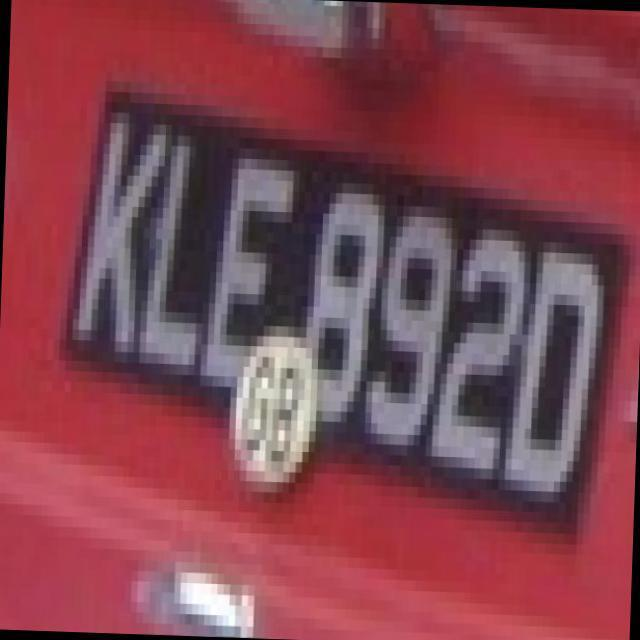License Plate: (56, 82, 632, 526)
